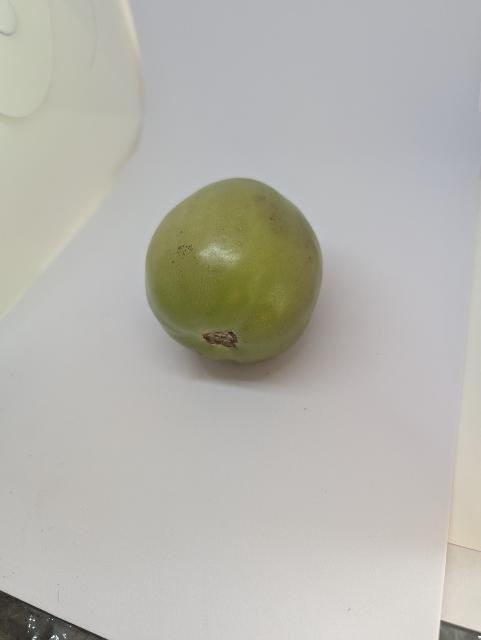green: (119, 149, 334, 378)
